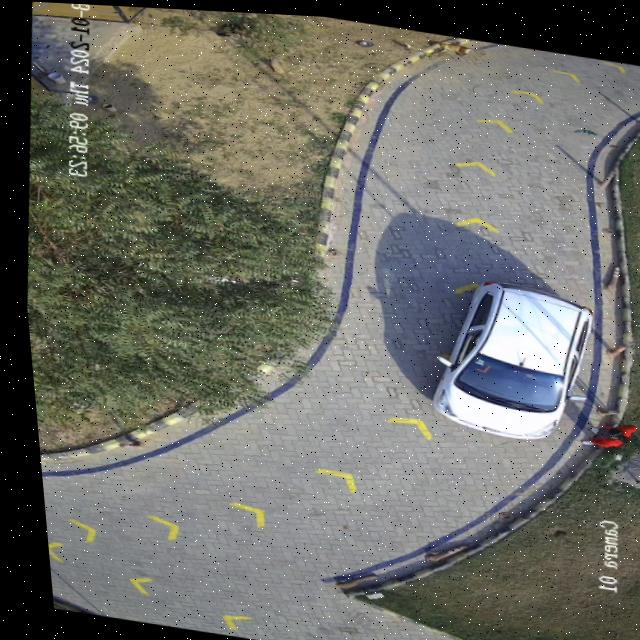car: (425, 275, 587, 433)
